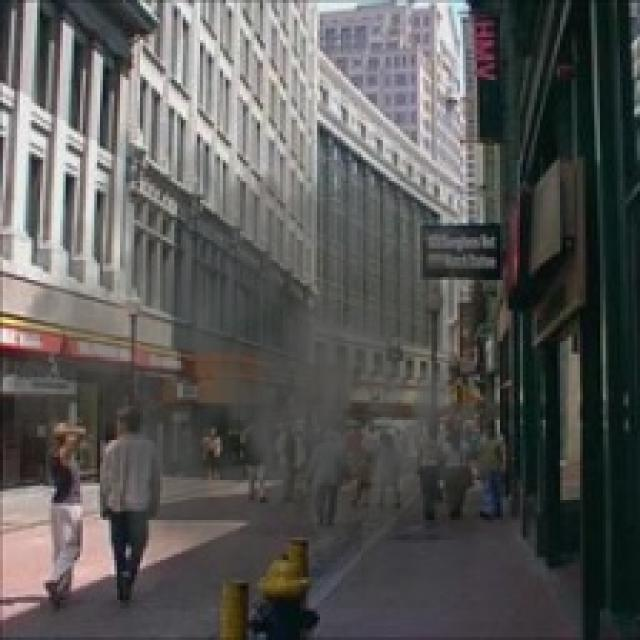Smoke: (14, 80, 534, 609)
